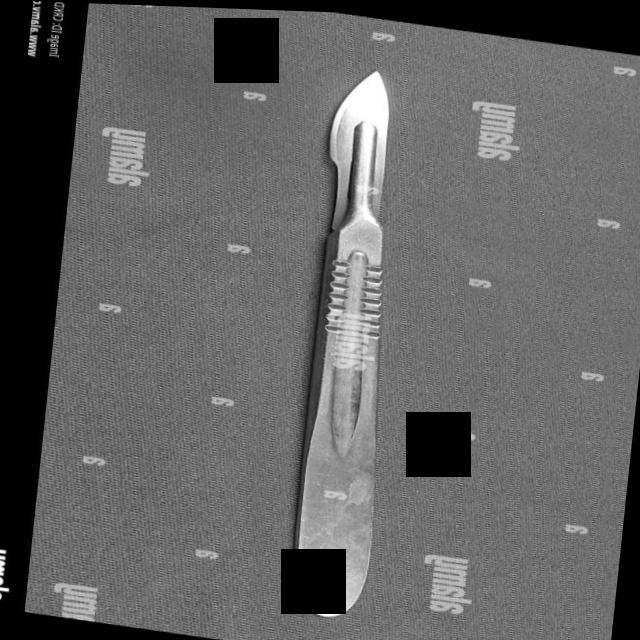Knife handle: (286, 113, 406, 624)
Surgical blade: (312, 42, 398, 235)
